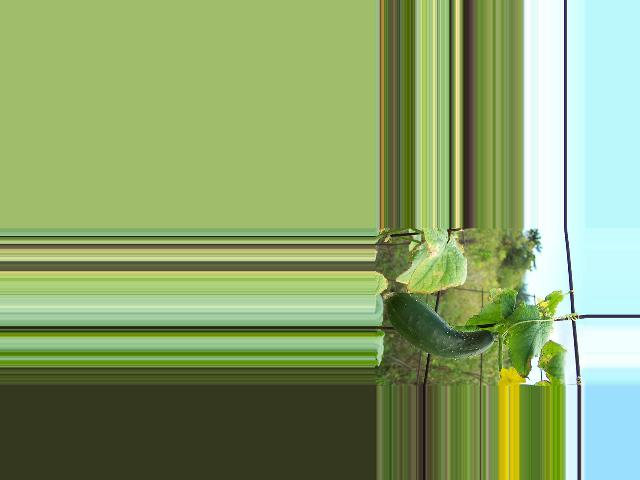cucumber: (386, 291, 495, 358)
